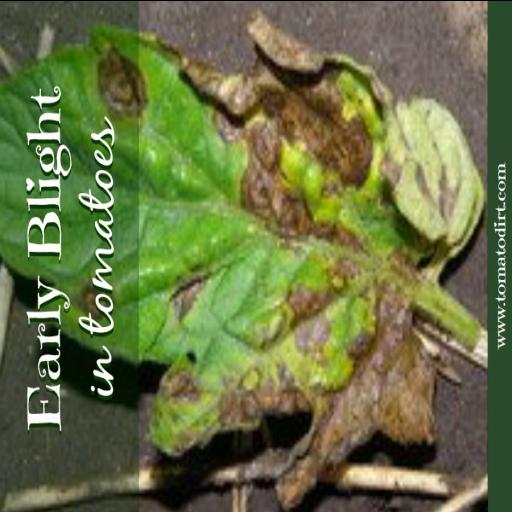disease_tomato: (8, 20, 480, 474)
